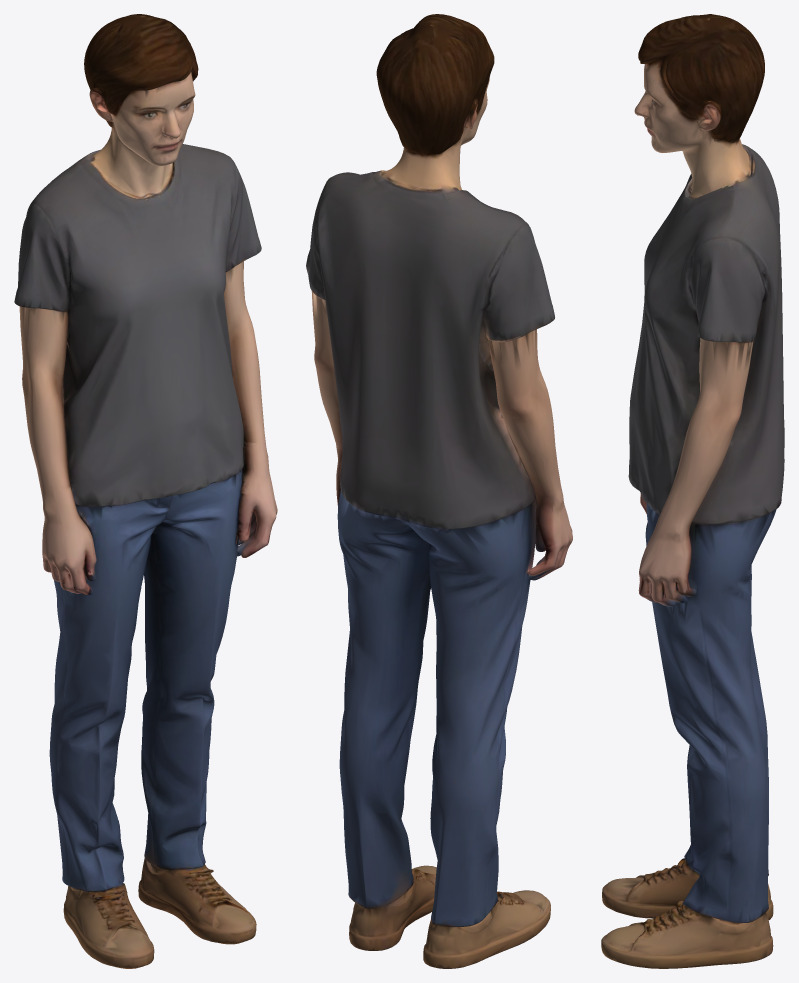
The model's file is ref-human.glb.
3 renders of one model, left to right at view 1: azimuth 30°, elevation 25°; view 2: azimuth 150°, elevation 25°; view 3: azimuth 270°, elevation 25°, orthographic.
Parts seen in each view (by area): view 1: node_0; view 2: node_0; view 3: node_0.
Part boxes in pixels (x1,y1,x2,y2): node_0: (14, 14, 277, 968); node_0: (306, 14, 572, 968); node_0: (601, 14, 784, 968).
Bounding box in the file's own units: 0.331 × 1.18 × 0.2145.
Materials: 1 (1 with a texture image).
